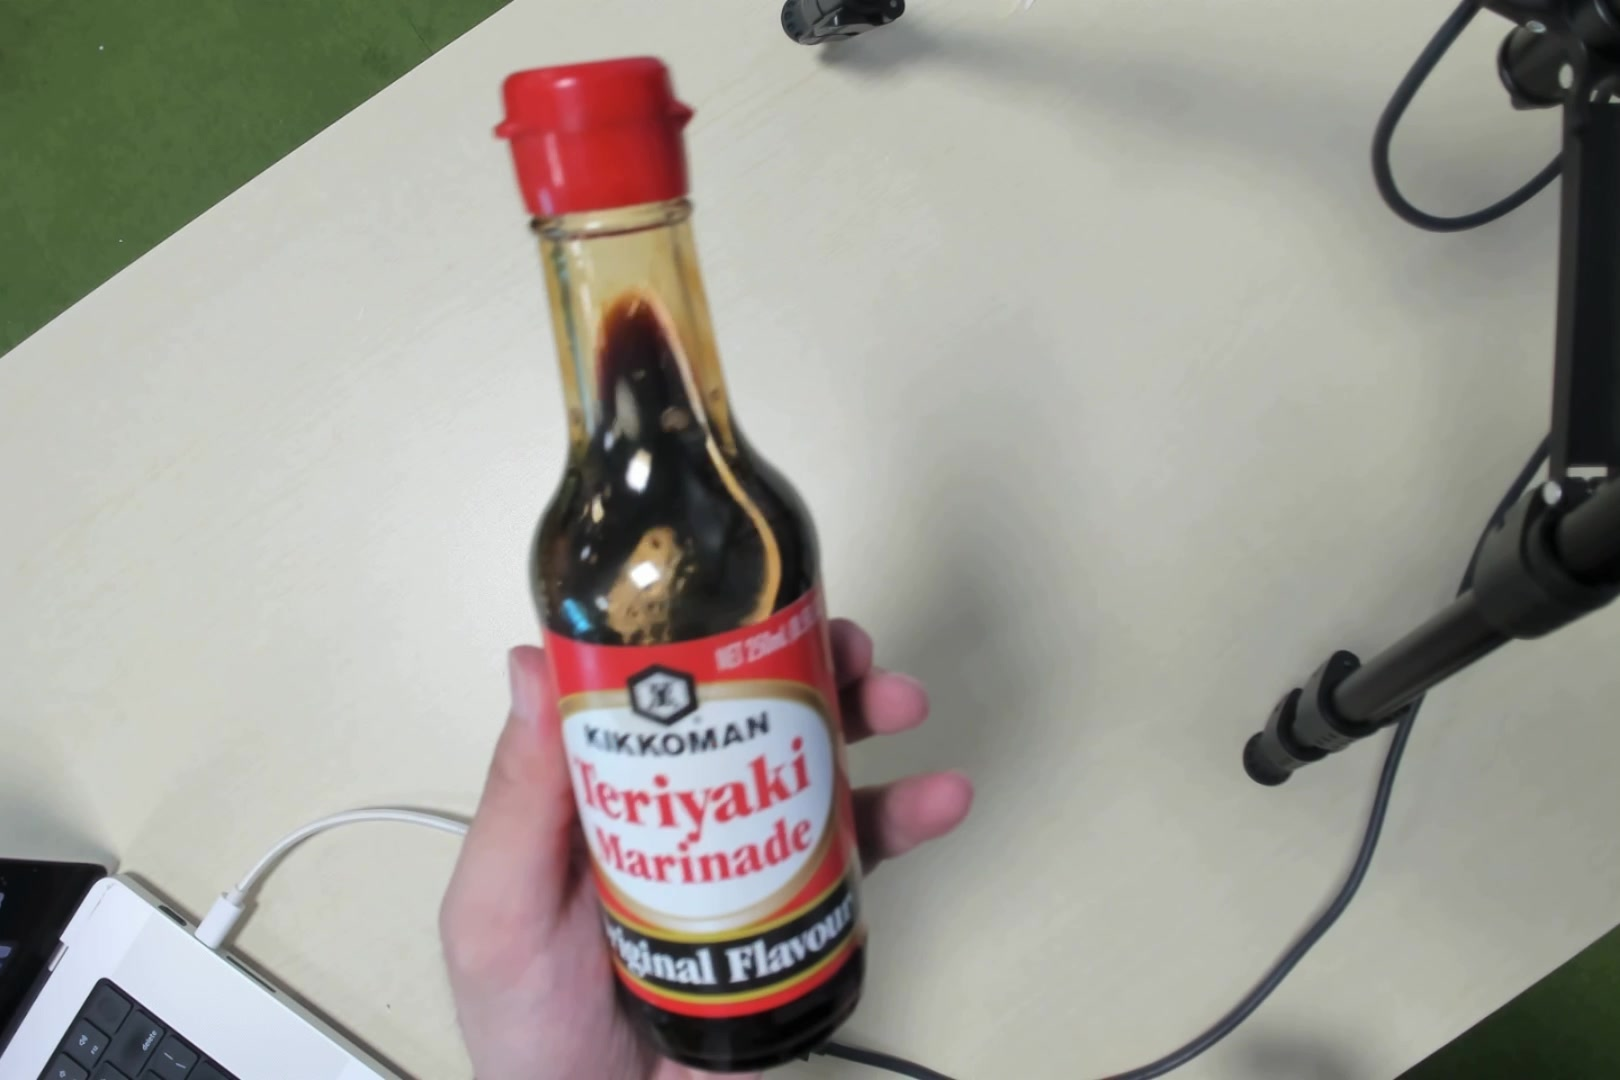OtherSauceDressingSoupbasePaste_200-299g_NonHalal_NonHealthy: (481, 47, 884, 1033)
